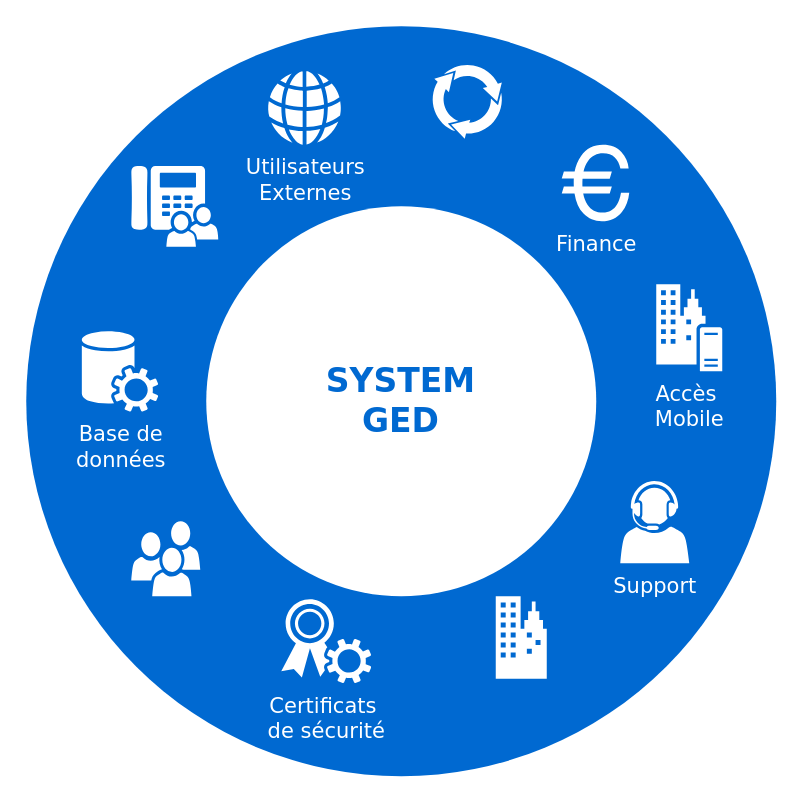
This 801x801 diagram has some shape labels left out. Here are the shapes that lost their labels. From the top down, the centre of each, then its label:
(x=466, y=100): Environmental Awareness
(x=174, y=205): Response Group
(x=165, y=558): Utilisateurs interne
(x=520, y=637): Infrastructure
